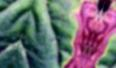Tomato leaf bacterial spot: (7, 0, 109, 68)
